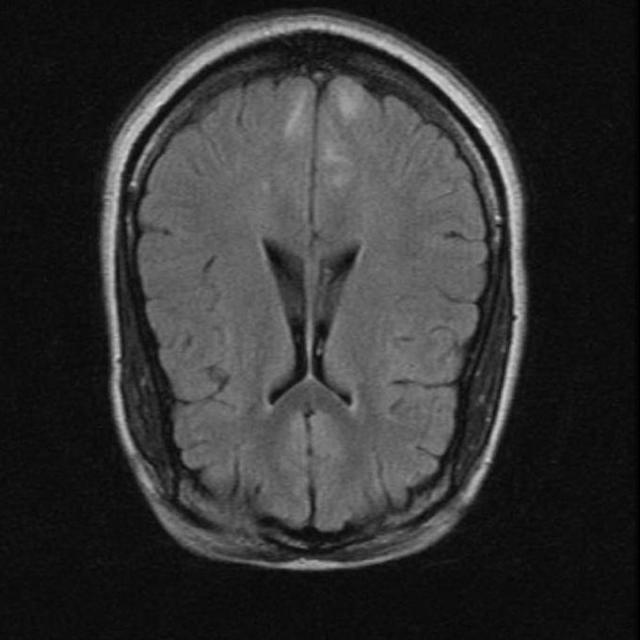notumor: (101, 11, 526, 570)
